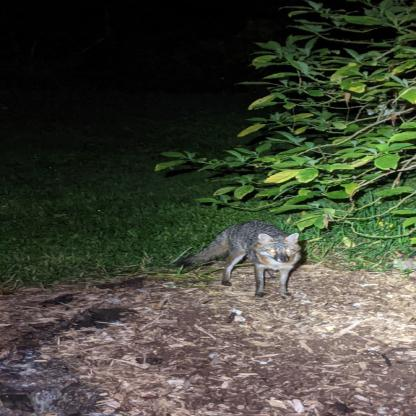zorro: (172, 218, 306, 302)
